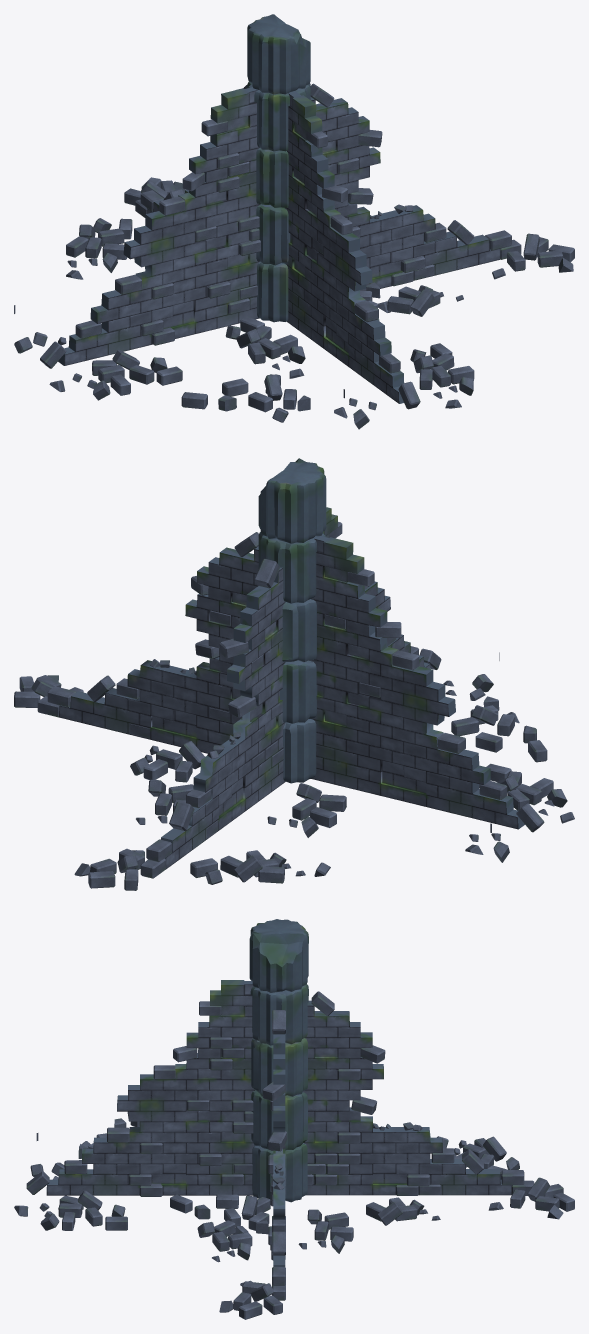
Rendered from wall_cross_2.obj.
The picture shows the model from 3 angles, top to bottom: view 1: azimuth 30°, elevation 25°; view 2: azimuth 150°, elevation 25°; view 3: azimuth 270°, elevation 25°; orthographic projection. The views are drawn at different scales.
Visible parts, largest first — view 1: Wall2_Estructura1_0, Bricks2_Estructura1_0, Pillar2_Material.001_0; view 2: Wall2_Estructura1_0, Bricks2_Estructura1_0, Pillar2_Material.001_0; view 3: Wall2_Estructura1_0, Bricks2_Estructura1_0, Pillar2_Material.001_0.
Boxes of the visible parts, x1,y1,x2,y2 form: Wall2_Estructura1_0: (58,87,500,403); Bricks2_Estructura1_0: (14,83,574,429); Pillar2_Material.001_0: (247,14,310,322); Wall2_Estructura1_0: (59,507,524,869); Bricks2_Estructura1_0: (14,522,574,890); Pillar2_Material.001_0: (258,458,326,783); Wall2_Estructura1_0: (46,980,511,1266); Bricks2_Estructura1_0: (14,991,574,1319); Pillar2_Material.001_0: (249,919,308,1202).
Bounding box in the file's own units: 4.83 × 2.58 × 4.83.
